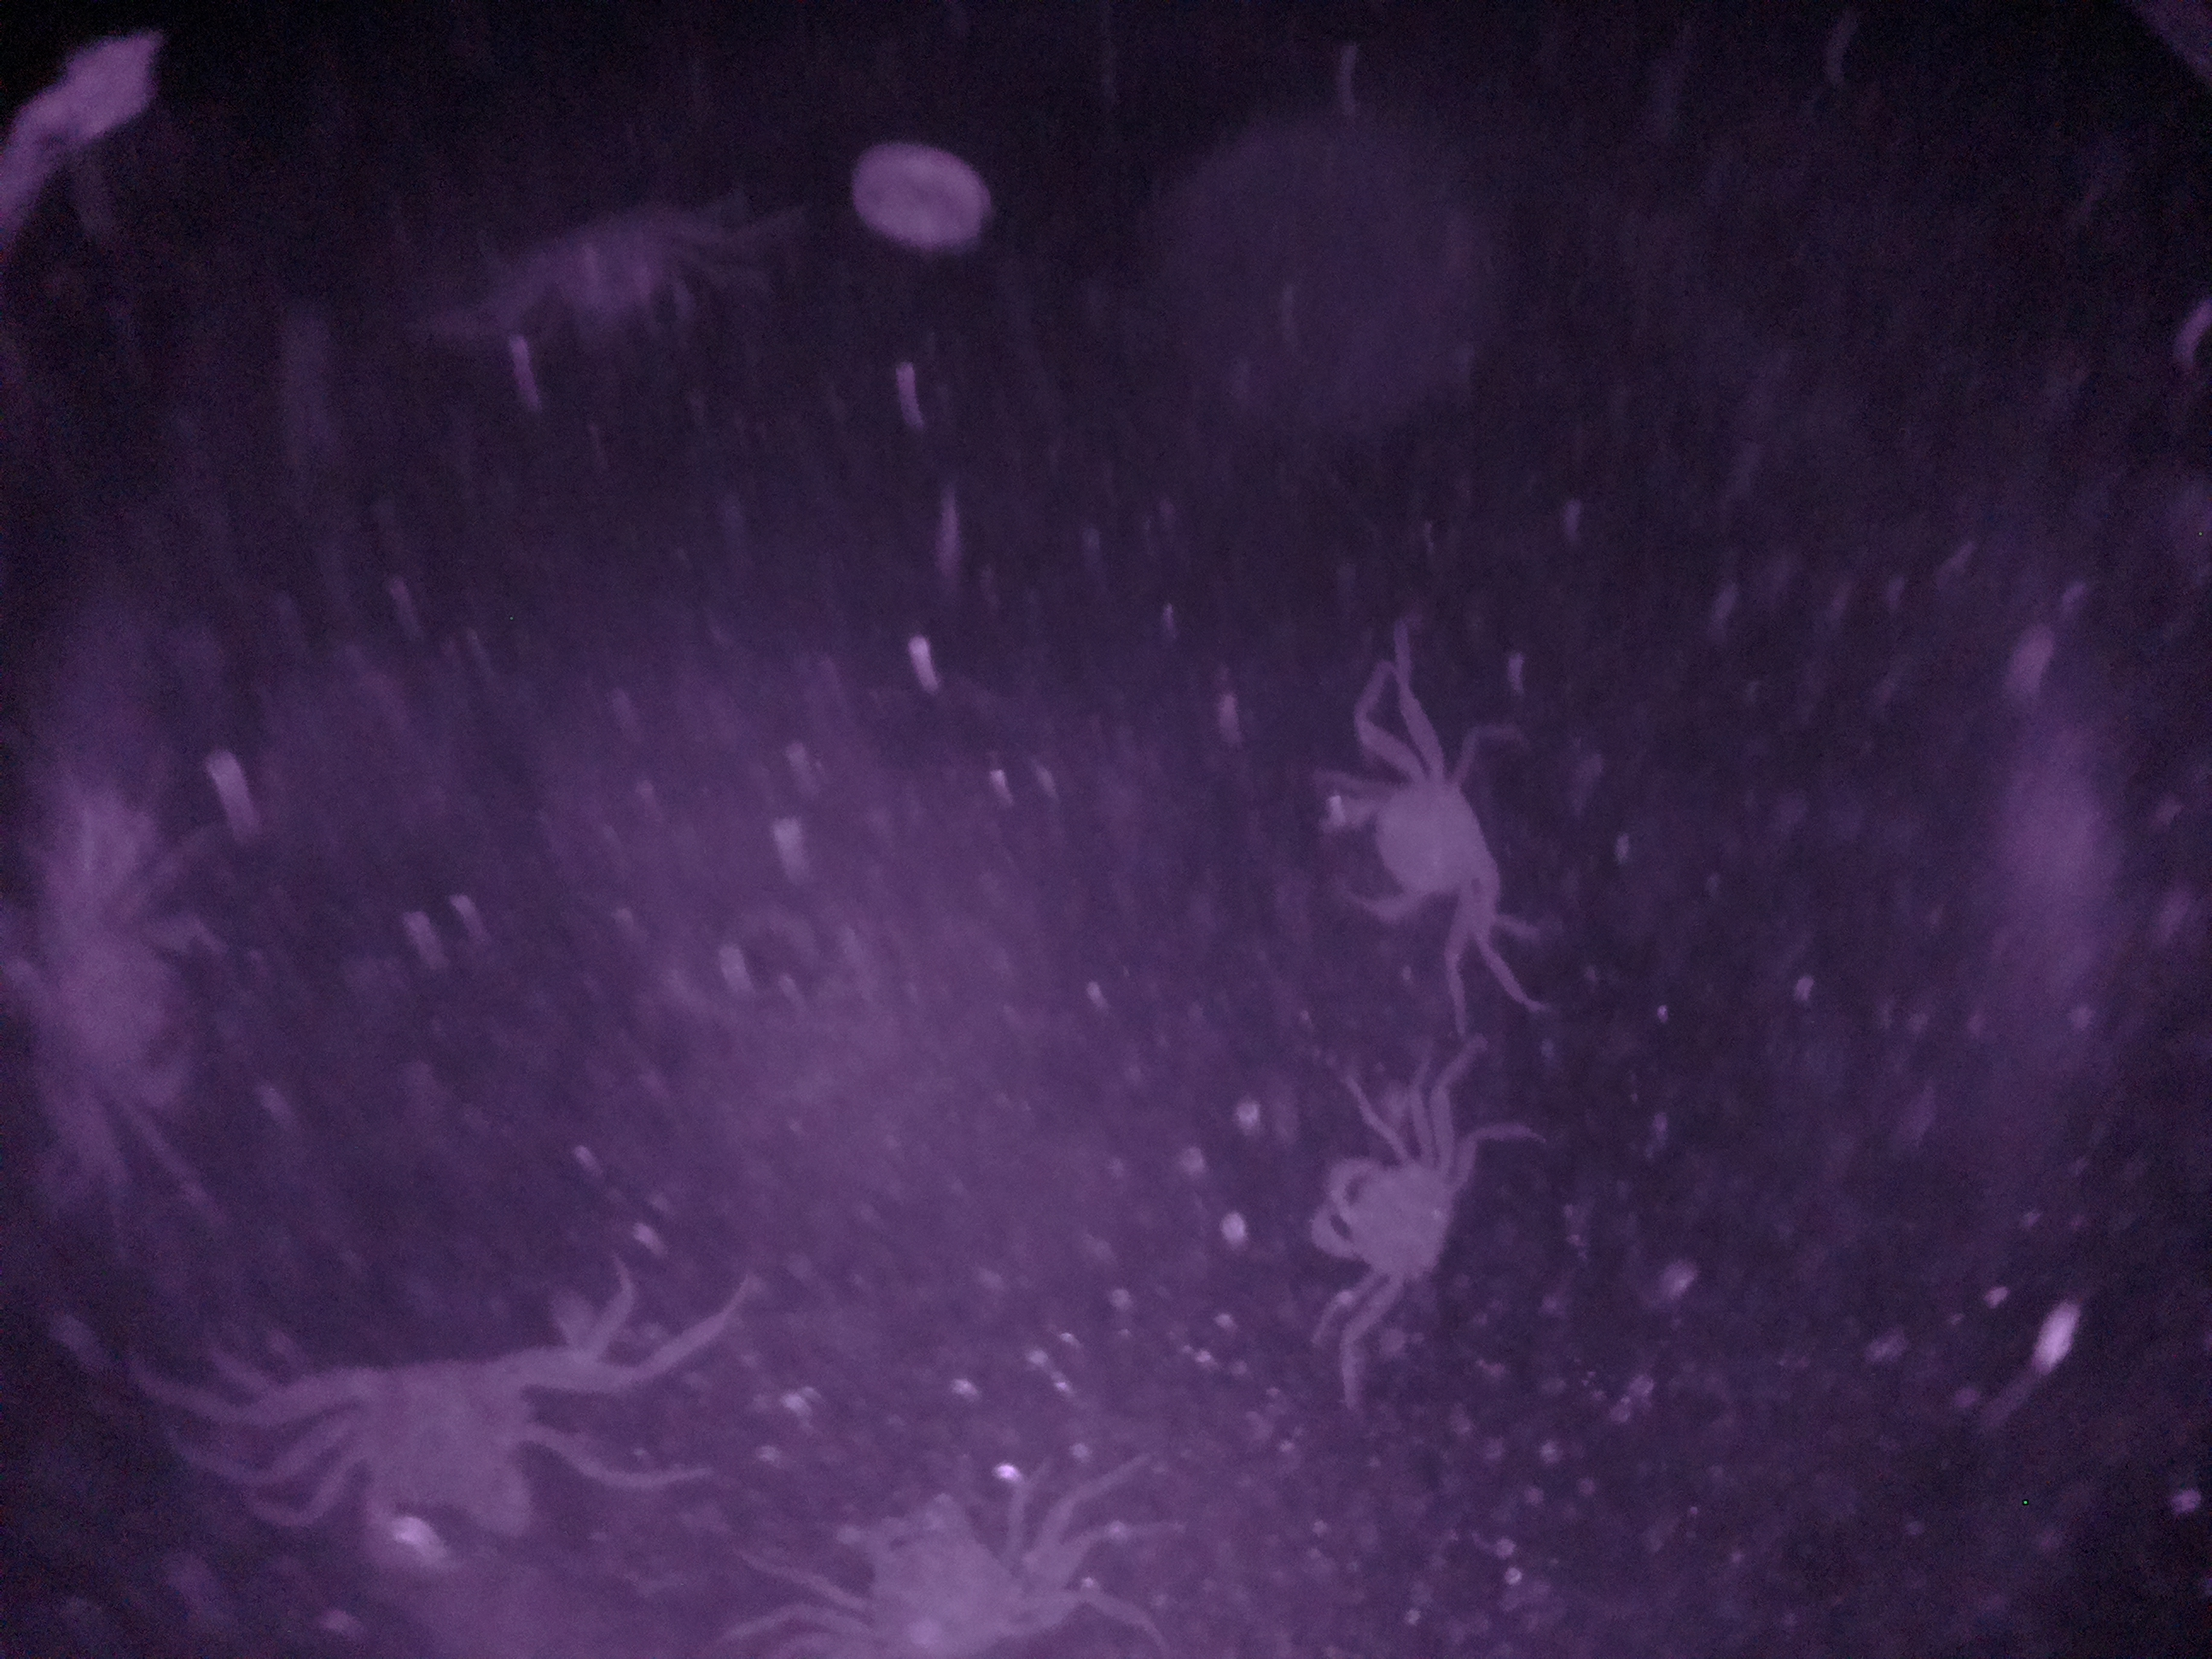Crab: (1301, 716, 1534, 946), (1305, 1103, 1474, 1333)
